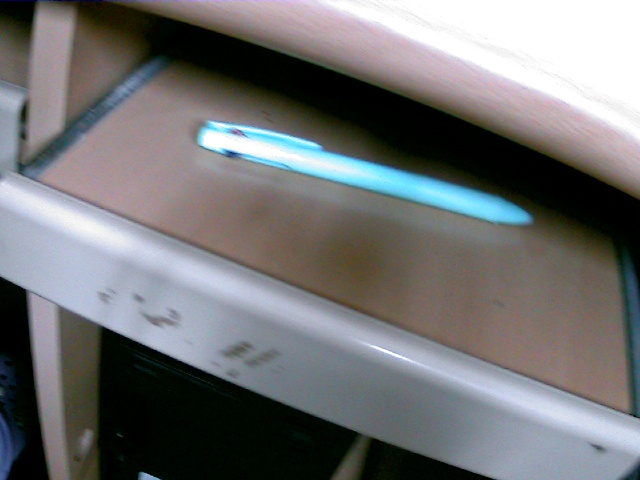pen: (198, 121, 542, 225)
